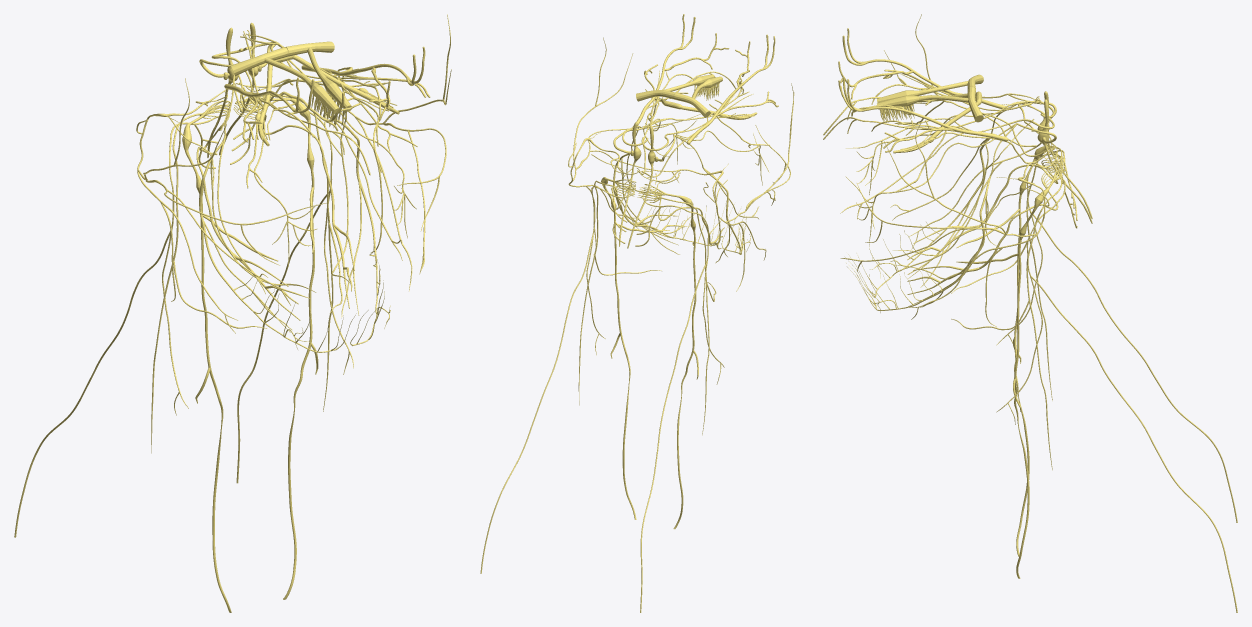
Rendered from nervos.glb.
The picture shows the model from 3 angles, left to right: view 1: azimuth 30°, elevation 25°; view 2: azimuth 150°, elevation 25°; view 3: azimuth 270°, elevation 25°; orthographic projection. The views are drawn at different scales.
Parts seen in each view (by area): view 1: facial_nerve_D, vagus_nerve_D, facial_nerve_E, vagus_nerve_E, accessory_nerve_D, olfactory_nerve_D, accessory_nerve_E, glossopharyngeal_nerve_D, olfactory_nerve_E, hypoglossal_nerve_E, inferior_alveolar_nerve_D, trigeminal_nerve_D (+4 smaller); view 2: facial_nerve_E, accessory_nerve_D, accessory_nerve_E, vagus_nerve_E, facial_nerve_D, vagus_nerve_D, olfactory_nerve_D, glossopharyngeal_nerve_E, glossopharyngeal_nerve_D, olfactory_nerve_E, trigeminal_nerve_D, trigeminal_nerve_E; view 3: facial_nerve_E, vagus_nerve_E, facial_nerve_D, accessory_nerve_E, vagus_nerve_D, accessory_nerve_D, olfactory_nerve_E, glossopharyngeal_nerve_E, hypoglossal_nerve_E, olfactory_nerve_D, hypoglossal_nerve_D, trigeminal_nerve_E (+3 smaller).
Part boxes in pixels (x1=…): facial_nerve_D: x1=136, y1=78, x2=326, y2=333; vagus_nerve_D: x1=182, y1=100, x2=277, y2=612; facial_nerve_E: x1=236, y1=14, x2=451, y2=291; vagus_nerve_E: x1=235, y1=95, x2=318, y2=599; accessory_nerve_D: x1=14, y1=114, x2=226, y2=537; olfactory_nerve_D: x1=231, y1=47, x2=339, y2=127; accessory_nerve_E: x1=230, y1=97, x2=353, y2=483; glossopharyngeal_nerve_D: x1=151, y1=101, x2=267, y2=453; olfactory_nerve_E: x1=285, y1=41, x2=351, y2=125; hypoglossal_nerve_E: x1=233, y1=99, x2=354, y2=308; inferior_alveolar_nerve_D: x1=201, y1=218, x2=356, y2=352; trigeminal_nerve_D: x1=199, y1=27, x2=238, y2=157; facial_nerve_E: x1=568, y1=37, x2=700, y2=256; accessory_nerve_D: x1=635, y1=194, x2=724, y2=612; accessory_nerve_E: x1=480, y1=186, x2=634, y2=573; vagus_nerve_E: x1=601, y1=177, x2=669, y2=519; facial_nerve_D: x1=639, y1=83, x2=794, y2=291; vagus_nerve_D: x1=639, y1=184, x2=698, y2=529; olfactory_nerve_D: x1=674, y1=76, x2=722, y2=117; glossopharyngeal_nerve_E: x1=578, y1=174, x2=661, y2=405; glossopharyngeal_nerve_D: x1=639, y1=179, x2=716, y2=435; olfactory_nerve_E: x1=636, y1=74, x2=714, y2=101; trigeminal_nerve_D: x1=627, y1=125, x2=703, y2=248; trigeminal_nerve_E: x1=613, y1=122, x2=641, y2=246; facial_nerve_E: x1=840, y1=120, x2=1057, y2=326; vagus_nerve_E: x1=956, y1=163, x2=1062, y2=578; facial_nerve_D: x1=840, y1=14, x2=1057, y2=249; accessory_nerve_E: x1=996, y1=174, x2=1237, y2=612; vagus_nerve_D: x1=956, y1=146, x2=1062, y2=556; accessory_nerve_D: x1=996, y1=150, x2=1237, y2=522; olfactory_nerve_E: x1=877, y1=86, x2=983, y2=122; glossopharyngeal_nerve_E: x1=951, y1=162, x2=1065, y2=470; hypoglossal_nerve_E: x1=907, y1=164, x2=1064, y2=294; olfactory_nerve_D: x1=877, y1=74, x2=983, y2=118; hypoglossal_nerve_D: x1=907, y1=160, x2=1064, y2=274; trigeminal_nerve_E: x1=989, y1=99, x2=1092, y2=223.
Size of the model in its own units: 0.1312 by 0.2716 by 0.1985.
